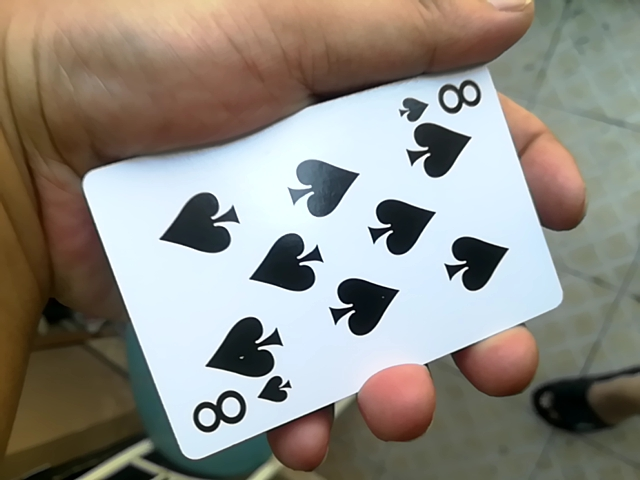ht 8: (71, 75, 567, 465)
